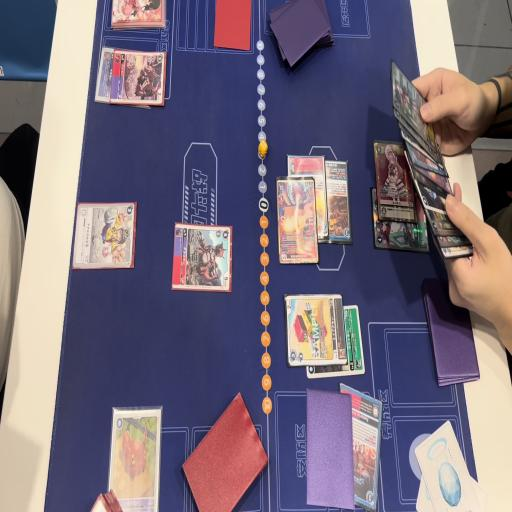card: (338, 380, 385, 512), (110, 401, 165, 512), (70, 202, 138, 273), (283, 296, 346, 369), (391, 58, 439, 150), (170, 226, 234, 294), (306, 306, 364, 378), (370, 190, 432, 257), (275, 174, 317, 265), (286, 152, 329, 240), (372, 140, 414, 220), (109, 48, 166, 106), (325, 160, 356, 246), (413, 172, 456, 214), (404, 138, 447, 173), (92, 45, 117, 102)
